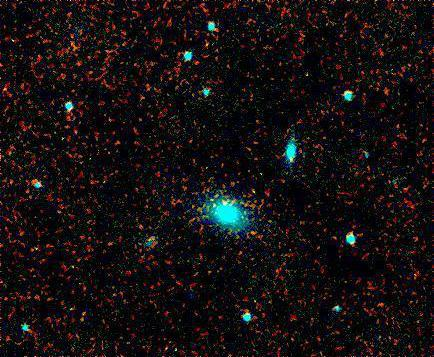star: (244, 214, 274, 244)
